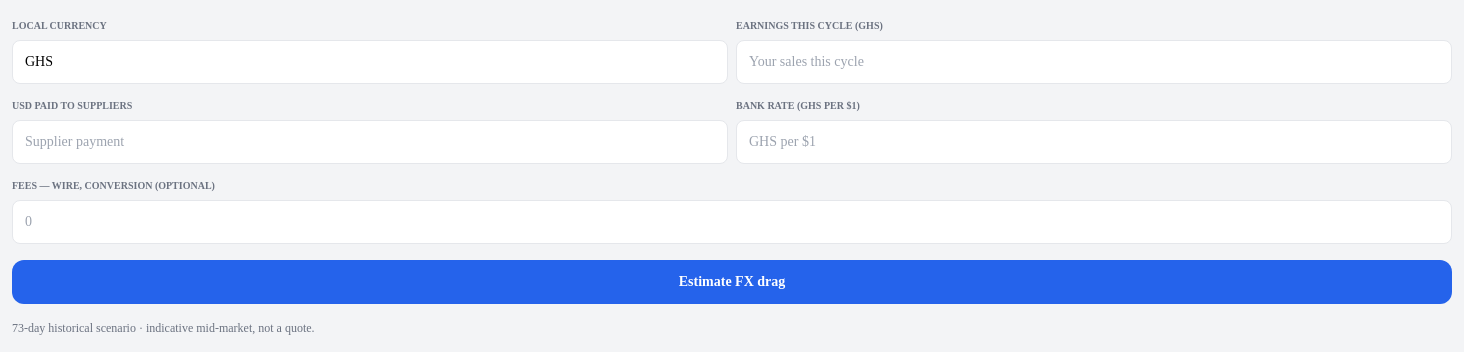
Scenario: LastCycleDrag › came-out-ahead copy renders when timing beats converting on arrival
Type "100000" into the field labelled "Earnings this cycle (GHS)" at (1094, 62), box top-left (736, 40), bottom-right (1452, 84)
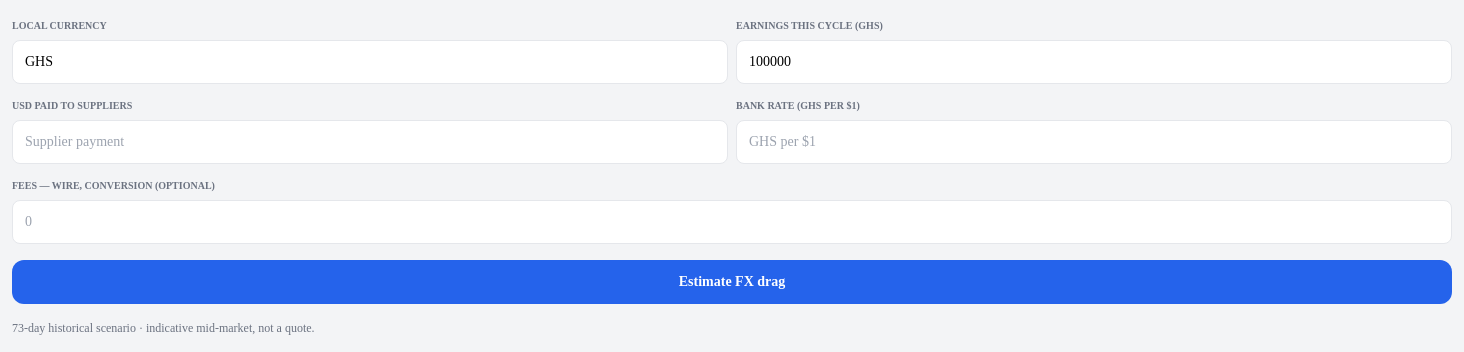
Type "5000" into the field labelled "USD paid to suppliers" at (370, 142), box top-left (12, 120), bottom-right (728, 164)
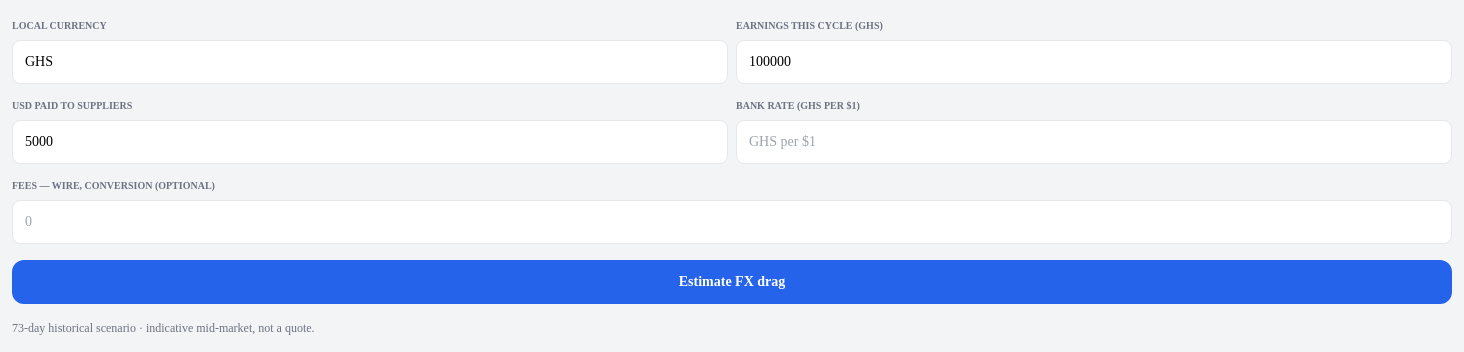
Type "14" into the field labelled "Bank rate (GHS per $1)" at (1094, 142), box top-left (736, 120), bottom-right (1452, 164)
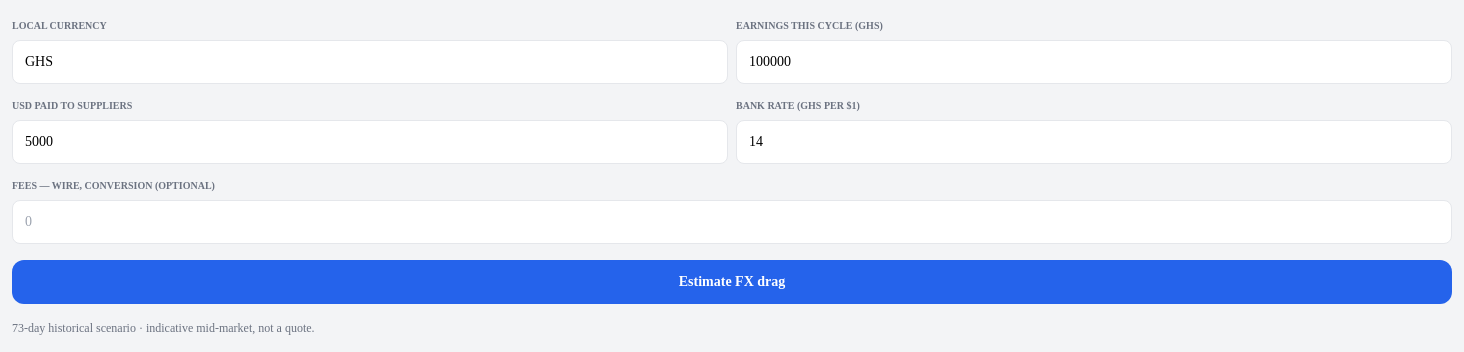
Click the button "Estimate FX drag" at (732, 282), box top-left (12, 260), bottom-right (1452, 304)
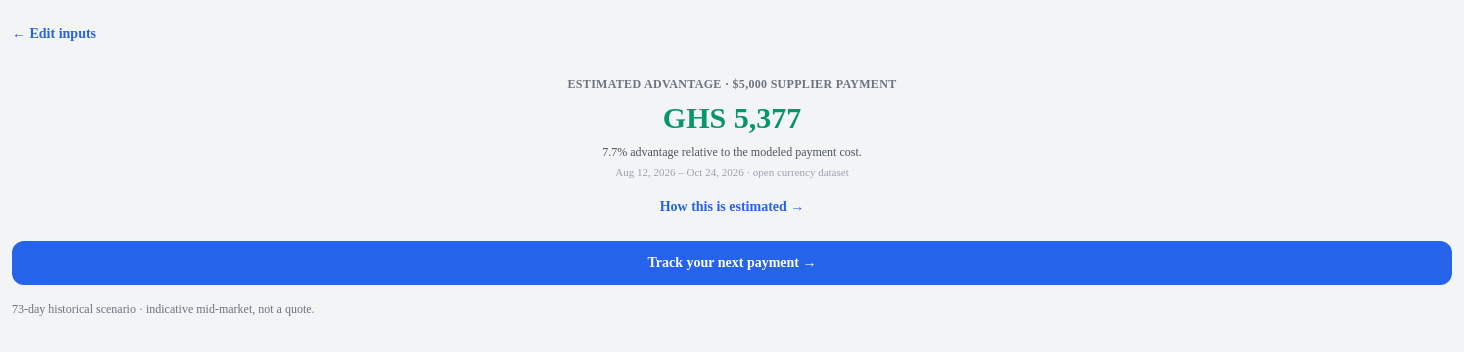
Now the element with test id "last-cycle-result" is shown, box top-left (12, 72), bottom-right (1452, 284)
Now the text "Estimated advantage · $5,000 supplier payment" is shown, box top-left (568, 77), bottom-right (896, 91)
Now the text "7.7% advantage relative to the modeled payment cost." is shown, box top-left (602, 145), bottom-right (862, 159)
